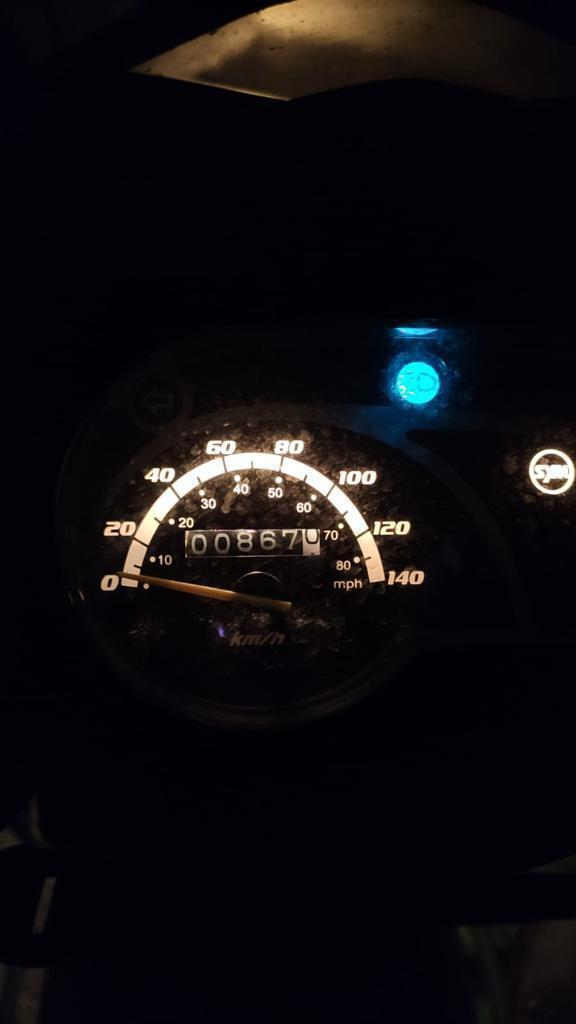0: (189, 532, 208, 556), (214, 531, 231, 555), (304, 527, 322, 548)
6: (258, 528, 277, 551)
7: (280, 528, 299, 550)
8: (236, 529, 254, 552)
odometer: (181, 526, 325, 560)
